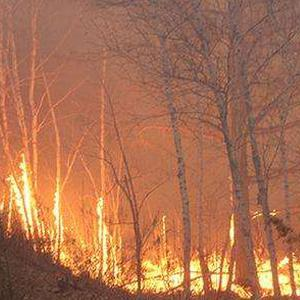fire: (14, 173, 120, 255), (140, 245, 300, 294)
smoke: (141, 20, 300, 225), (8, 15, 134, 168)
